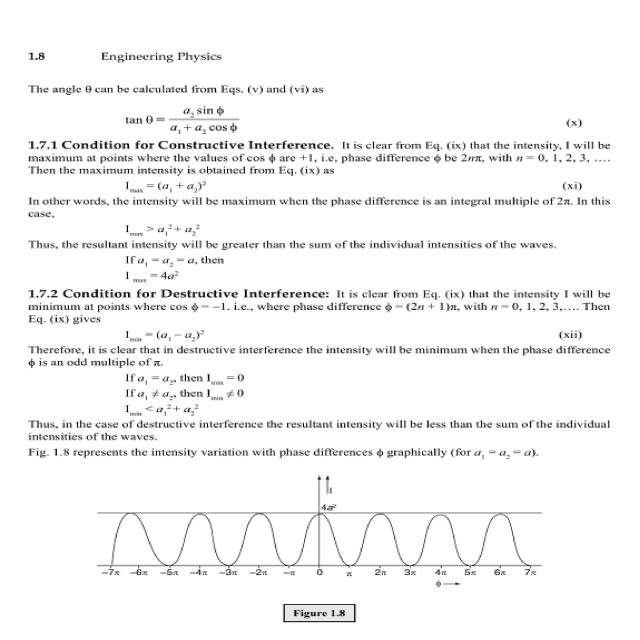diagram: (63, 464, 640, 621)
